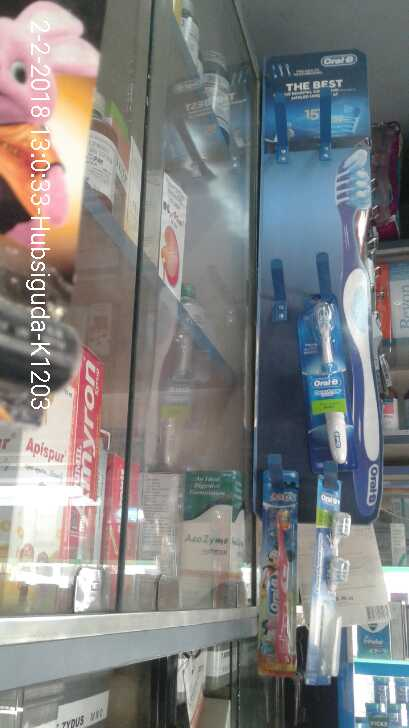oralb: (294, 298, 353, 468), (258, 464, 298, 672)
